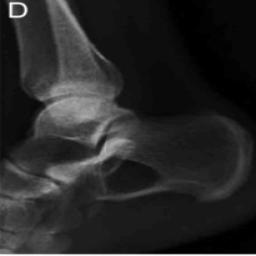cancer: (95, 159, 168, 199)
